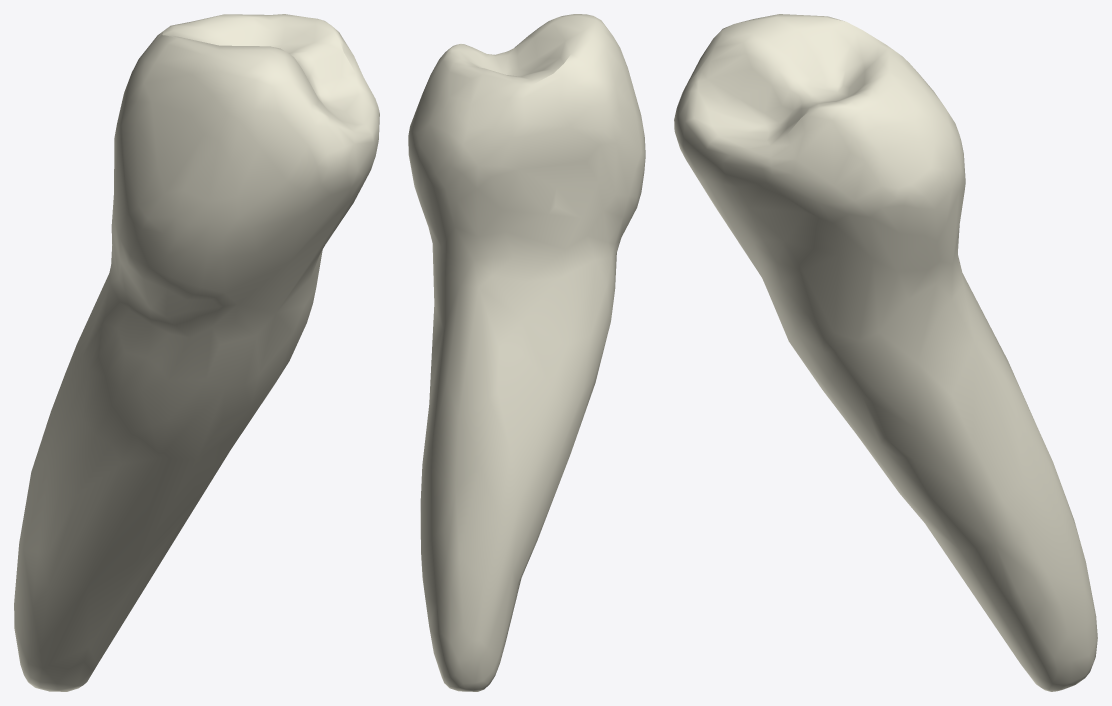
File: Right second lower premolar tooth.fbx
3 views of the same model, side by side, from view 1: azimuth 30°, elevation 25°; view 2: azimuth 150°, elevation 25°; view 3: azimuth 270°, elevation 25° (orthographic). The views are drawn at different scales.
Parts seen in each view (by area): view 1: Right second lower premolar tooth; view 2: Right second lower premolar tooth; view 3: Right second lower premolar tooth.
Boxes of the visible parts, x1,y1,x2,y2 form: Right second lower premolar tooth: (14, 14, 379, 691); Right second lower premolar tooth: (408, 14, 645, 691); Right second lower premolar tooth: (674, 14, 1097, 691).
Size of the model in its own units: 1.08 by 3.11 by 1.78.
